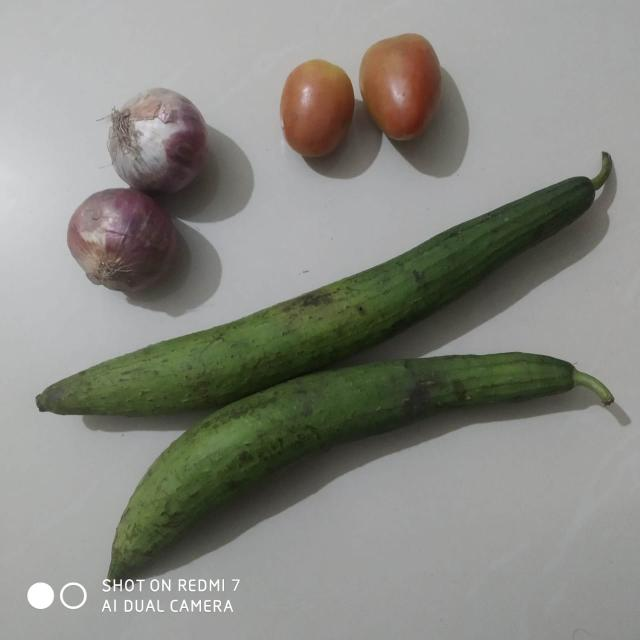Organik: (23, 341, 634, 584), (62, 192, 186, 295), (102, 88, 216, 198), (359, 30, 447, 142), (274, 52, 360, 160)
